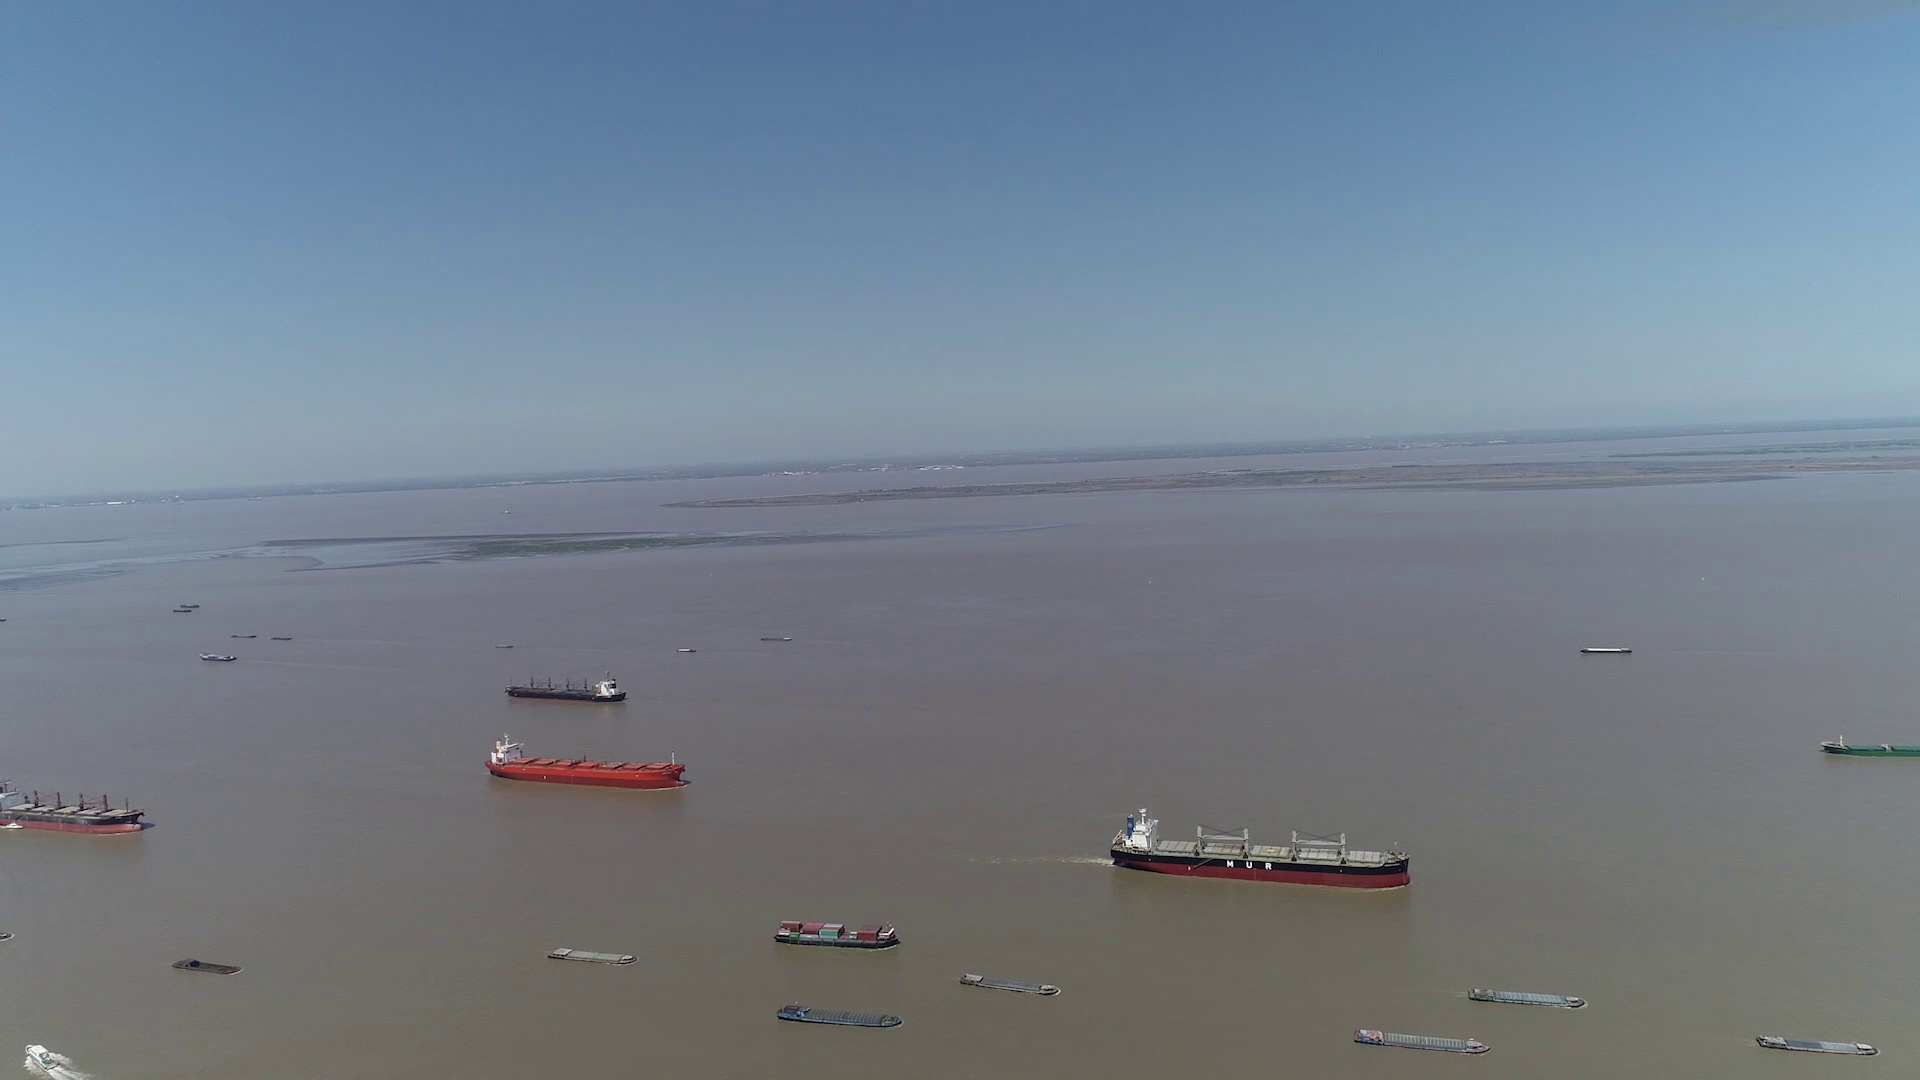ship: (1105, 807, 1418, 891), (484, 732, 687, 789), (0, 775, 150, 836), (771, 920, 899, 949), (504, 673, 626, 702), (1353, 1029, 1487, 1055), (775, 1004, 902, 1029), (1756, 1033, 1879, 1058), (959, 971, 1063, 996), (1469, 986, 1585, 1007), (1818, 735, 1919, 758), (549, 945, 637, 965), (21, 1044, 69, 1073), (174, 957, 247, 975), (1582, 646, 1633, 655), (200, 651, 237, 659), (0, 926, 13, 942)
